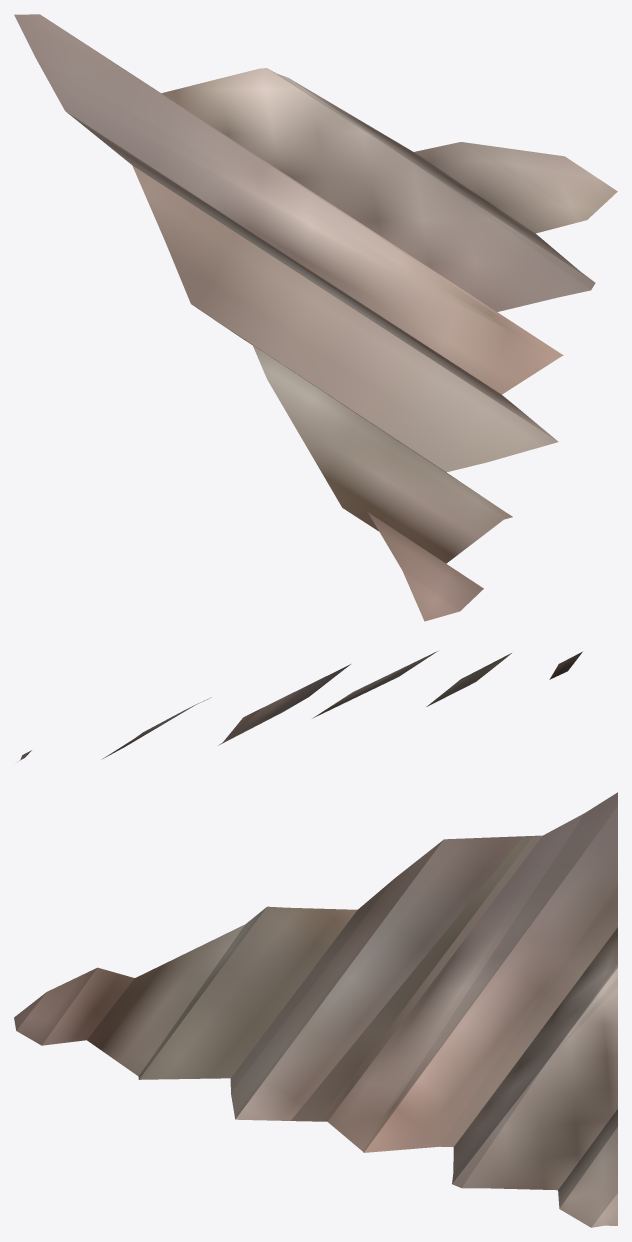
The picture shows the model from 3 angles, top to bottom: view 1: azimuth 30°, elevation 25°; view 2: azimuth 150°, elevation 25°; view 3: azimuth 270°, elevation 25°; orthographic projection. The views are drawn at different scales.
Bounding box in the file's own units: 0.7207 × 0.3602 × 0.8748.
Materials: 1 (1 with a texture image).
